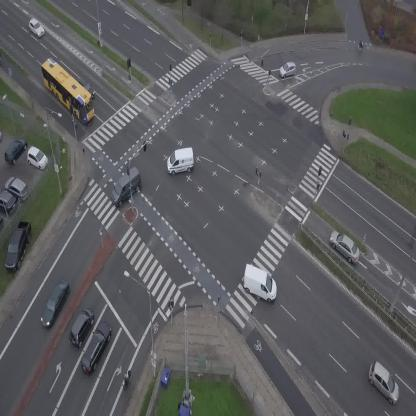bicycle: (123, 369, 132, 392), (354, 39, 368, 53), (0, 53, 2, 65)
bus: (33, 55, 103, 125)
car: (76, 319, 117, 377), (361, 359, 407, 406), (36, 279, 73, 330), (324, 225, 366, 267), (64, 304, 99, 349), (76, 77, 98, 99), (25, 17, 47, 39), (279, 62, 296, 78)
lorry: (103, 165, 150, 209), (236, 263, 284, 304), (165, 147, 196, 176)
